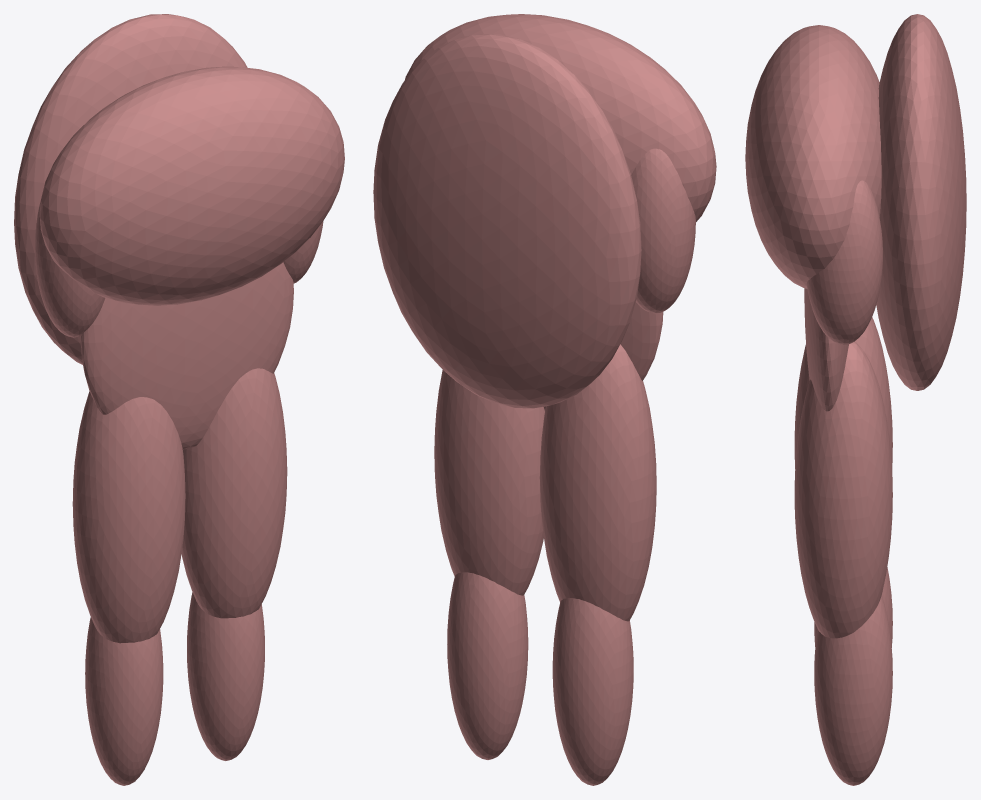
The model's file is muscular_system.glb.
The picture shows the model from 3 angles, left to right: view 1: azimuth 30°, elevation 25°; view 2: azimuth 150°, elevation 25°; view 3: azimuth 270°, elevation 25°; orthographic projection. The views are drawn at different scales.
Parts seen in each view (by area): view 1: world; view 2: world; view 3: world.
Part boxes in pixels (x1,y1,x2,y2): world: (14, 14, 344, 785); world: (373, 14, 716, 785); world: (745, 14, 966, 785).
Size of the model in its own units: 7 by 16.5 by 4.5.
